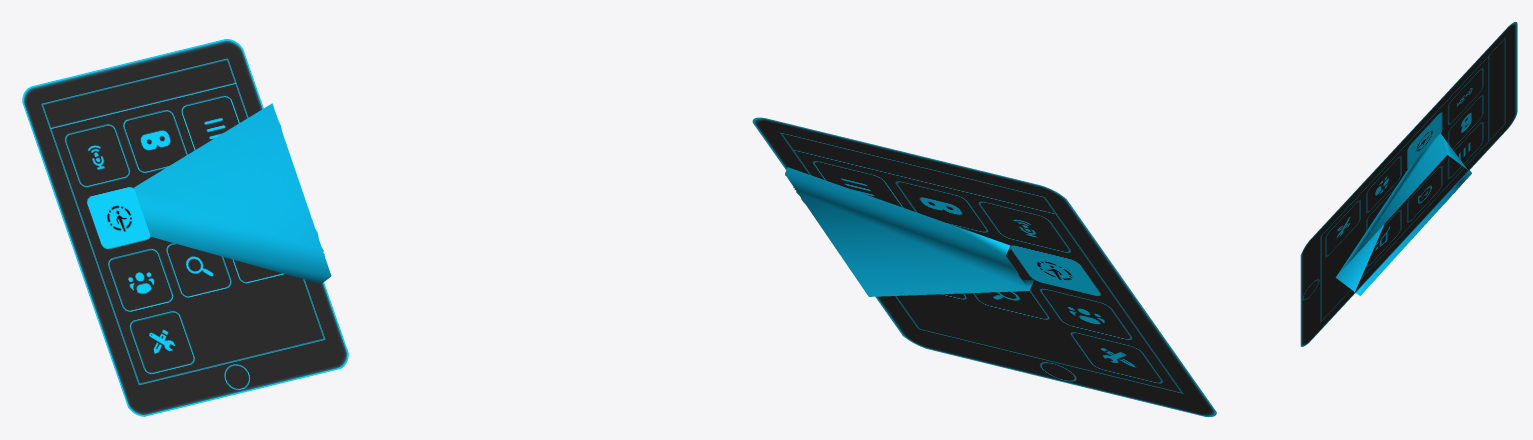
Rendered from FTUE-Tablet-Bubble.fbx.
3 renders of one model, left to right at view 1: azimuth 30°, elevation 25°; view 2: azimuth 150°, elevation 25°; view 3: azimuth 270°, elevation 25°, orthographic. The views are drawn at different scales.
Parts seen in each view (by area): view 1: Cube.003, Cube.000; view 2: Cube.003, Cube.000; view 3: Cube.003, Cube.000.
Part boxes in pixels (bbox=[...]): Cube.003: bbox=[22, 39, 348, 416]; Cube.000: bbox=[134, 103, 331, 284]; Cube.003: bbox=[752, 117, 1216, 416]; Cube.000: bbox=[785, 167, 1034, 296]; Cube.003: bbox=[1300, 22, 1517, 346]; Cube.000: bbox=[1335, 133, 1471, 295].
Bounding box in the file's own units: 46.29 × 31.32 × 29.74.
Materials: 1 (1 with a texture image).
